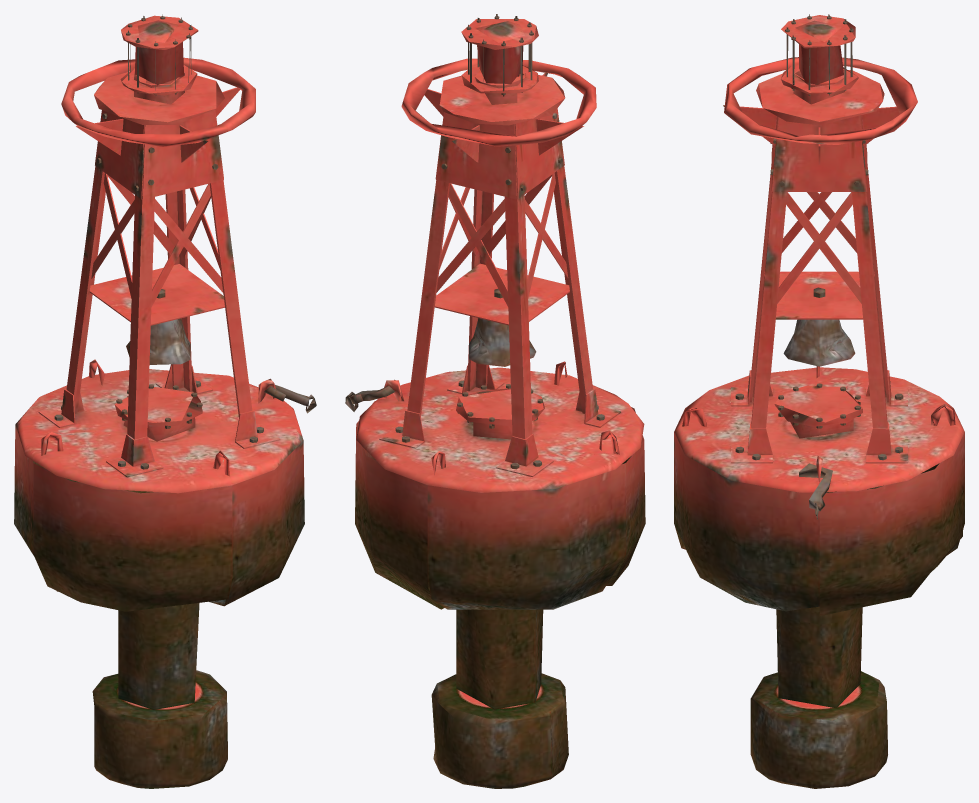
The picture shows the model from 3 angles, left to right: view 1: azimuth 30°, elevation 25°; view 2: azimuth 150°, elevation 25°; view 3: azimuth 270°, elevation 25°; orthographic projection.
Visible parts, largest first — view 1: ocean_buoy_lod1; view 2: ocean_buoy_lod1; view 3: ocean_buoy_lod1.
Part boxes in pixels (<box>): ocean_buoy_lod1: <box>14,14,316,788</box>; ocean_buoy_lod1: <box>345,14,645,788</box>; ocean_buoy_lod1: <box>674,14,964,788</box>.
Size of the model in its own units: 1.07 by 2.66 by 0.9521.
1 material, 1 textured.
